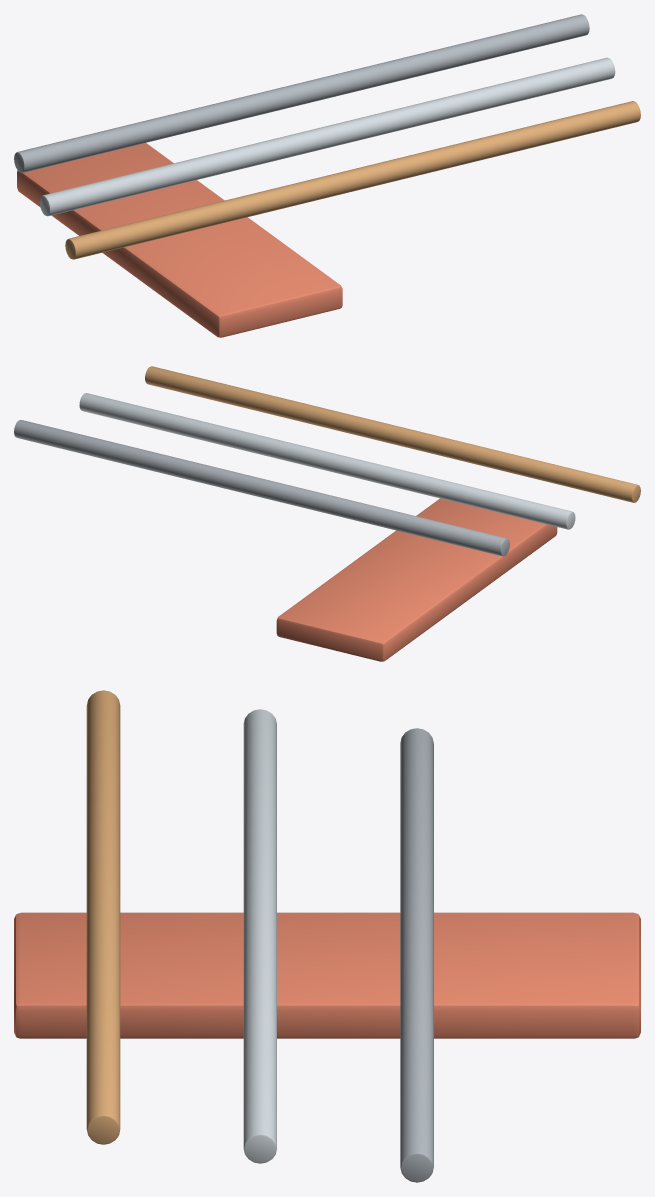
File: conduction_apparatus.glb
The picture shows the model from 3 angles, top to bottom: view 1: azimuth 30°, elevation 25°; view 2: azimuth 150°, elevation 25°; view 3: azimuth 270°, elevation 25°; orthographic projection. The views are drawn at different scales.
Parts seen in each view (by area): view 1: Heat_Source_Base, Rod_Steel, Rod_Copper, Rod_Aluminium; view 2: Heat_Source_Base, Rod_Aluminium, Rod_Steel, Rod_Copper; view 3: Heat_Source_Base, Rod_Copper, Rod_Steel, Rod_Aluminium.
Part boxes in pixels (x1,y1,x2,y2): Heat_Source_Base: (17, 143, 342, 337); Rod_Steel: (14, 14, 589, 172); Rod_Copper: (65, 101, 640, 259); Rod_Aluminium: (39, 57, 615, 216); Heat_Source_Base: (276, 498, 557, 661); Rod_Aluminium: (79, 393, 575, 529); Rod_Steel: (14, 420, 509, 556); Rod_Copper: (145, 366, 640, 502); Heat_Source_Base: (14, 912, 640, 1038); Rod_Copper: (86, 690, 120, 1144); Rod_Steel: (400, 728, 433, 1182); Rod_Aluminium: (243, 709, 276, 1163).
Size of the model in its own units: 4.9 by 0.825 by 2.8.
